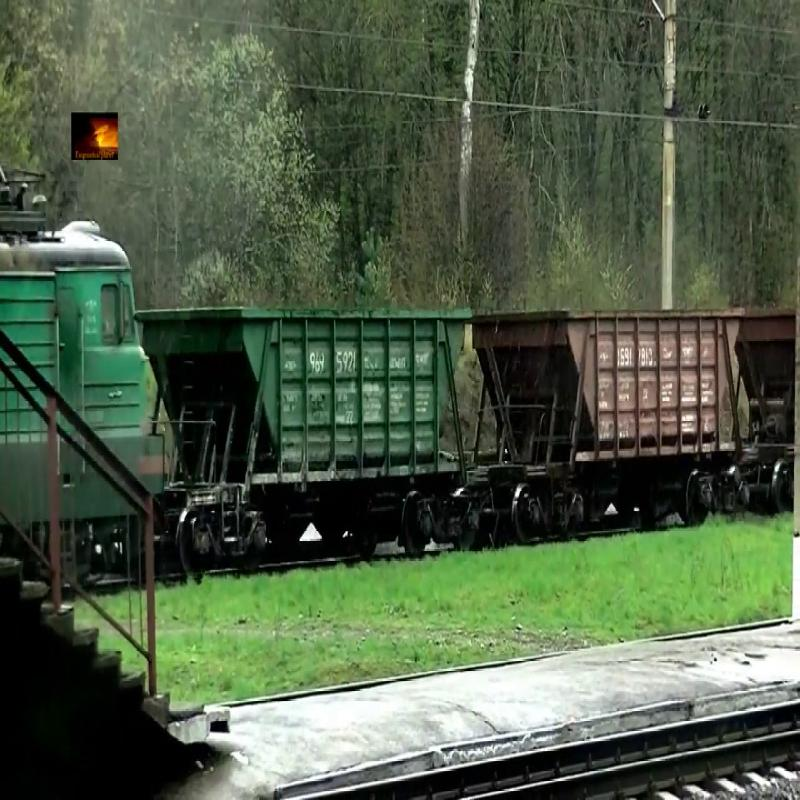train: (142, 311, 472, 491), (473, 311, 748, 468), (733, 309, 800, 448)
